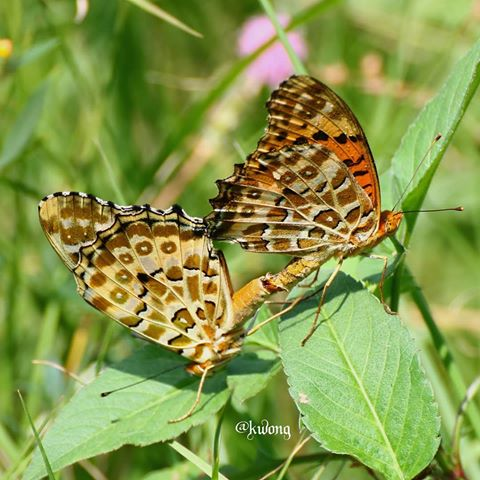Argyreus hyperbius: (205, 65, 465, 342), (27, 186, 282, 426)
butterfly: (207, 67, 467, 344), (29, 188, 284, 428)
